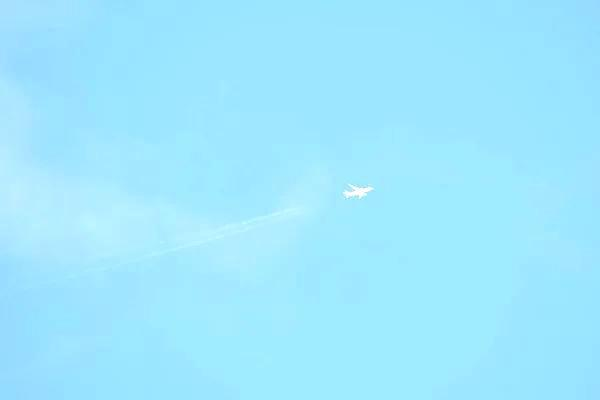Plane: (327, 175, 389, 206)
